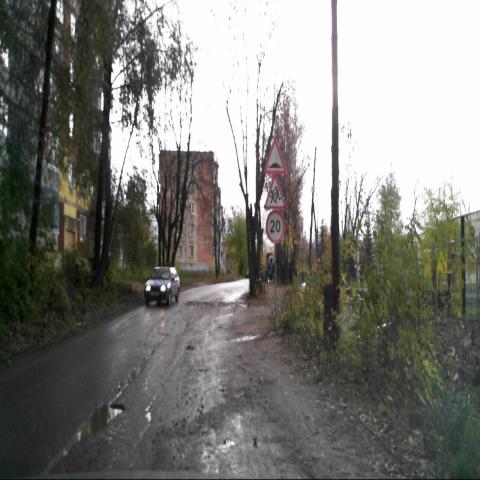1_17: (264, 140, 286, 174)
